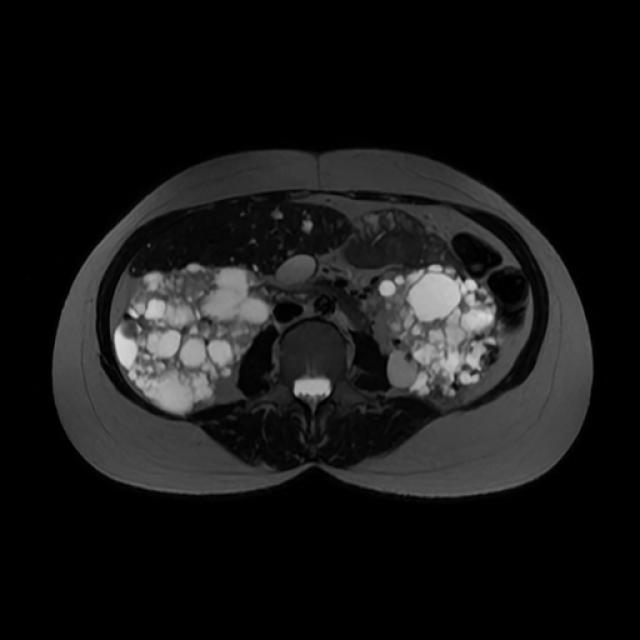sag: (113, 263, 276, 416)
sol: (378, 263, 503, 406)
